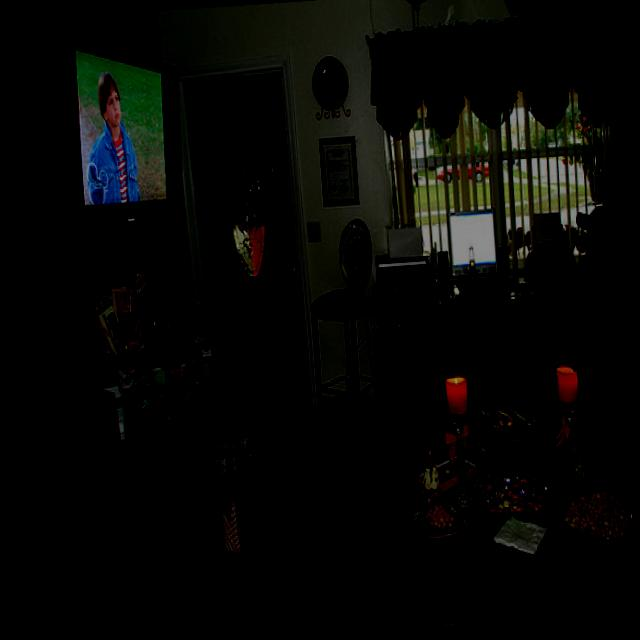Vehicle: (432, 161, 489, 186)
